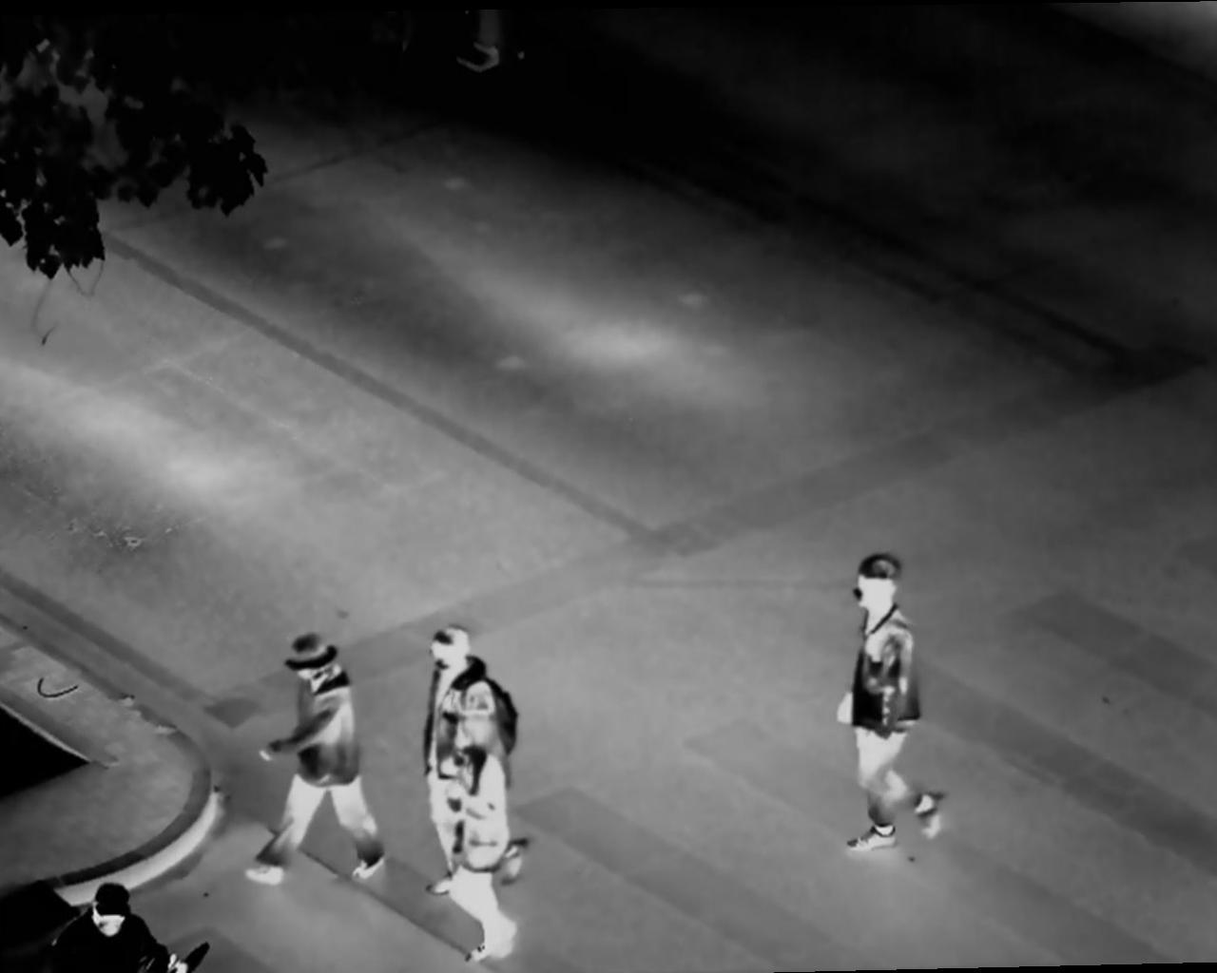person: (243, 629, 388, 911), (835, 552, 962, 873), (446, 692, 533, 972), (416, 617, 473, 848), (59, 876, 148, 973)
